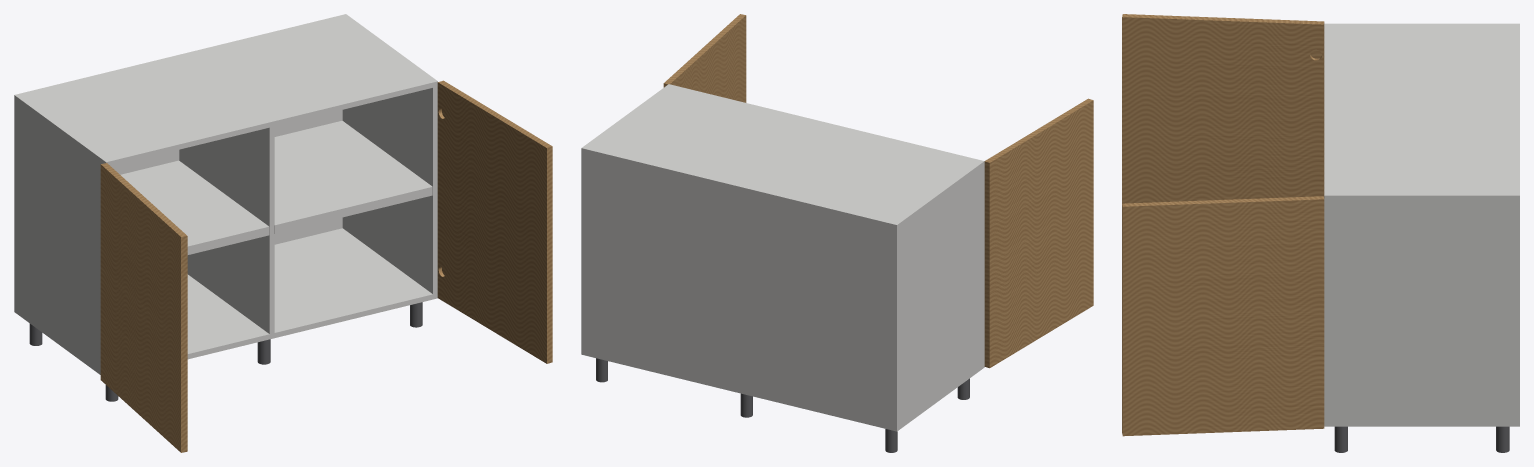
Rendered from w1200_onset_default_open.glb.
3 renders of one model, left to right at view 1: azimuth 30°, elevation 25°; view 2: azimuth 150°, elevation 25°; view 3: azimuth 270°, elevation 25°, orthographic. The views are drawn at different scales.
Visible parts, largest first — view 1: white, oak, leg; view 2: white, oak, leg; view 3: oak, white, leg.
Boxes of the visible parts, x1,y1,x2,y2 form: white: [14, 14, 437, 374]; oak: [100, 80, 552, 452]; leg: [29, 302, 422, 401]; white: [581, 84, 984, 431]; oak: [663, 14, 1093, 368]; leg: [596, 358, 969, 452]; oak: [1122, 14, 1324, 436]; white: [1324, 23, 1519, 426]; leg: [1334, 426, 1509, 452].
Size of the model in its own units: 1.34 by 0.85 by 1.17.
3 materials, 1 textured.
